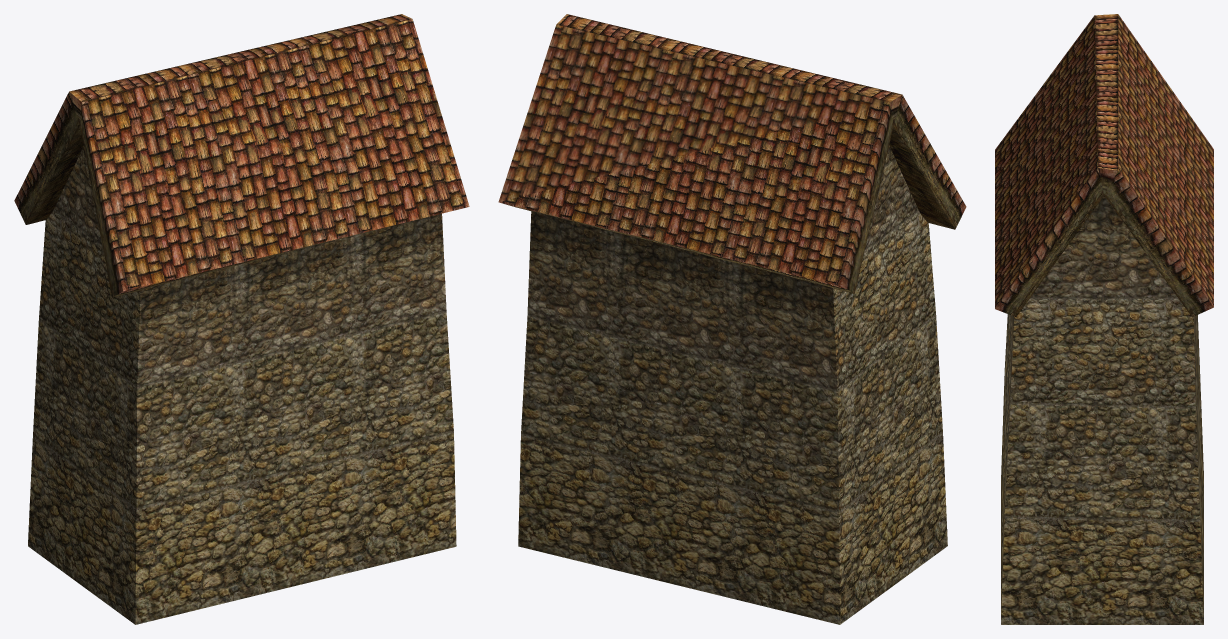
Rendered from hrz08.glb.
3 renders of one model, left to right at view 1: azimuth 30°, elevation 25°; view 2: azimuth 150°, elevation 25°; view 3: azimuth 270°, elevation 25°, orthographic. The views are drawn at different scales.
Parts seen in each view (by area): view 1: hrz08-col; view 2: hrz08-col; view 3: hrz08-col.
Boxes of the visible parts, bbox=[...] form: hrz08-col: bbox=[14, 14, 469, 624]; hrz08-col: bbox=[498, 14, 966, 624]; hrz08-col: bbox=[995, 14, 1213, 624].
Bounding box in the file's own units: 12.86 × 17.12 × 7.37.
Materials: 6 (6 with a texture image).
